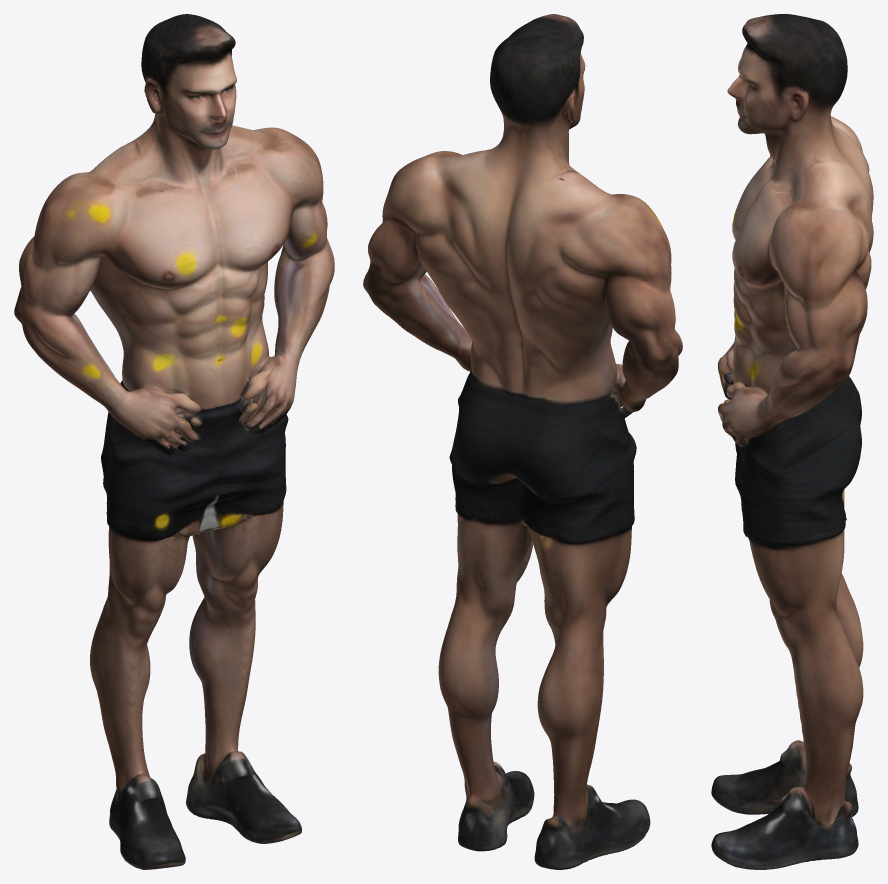
File: Muscle_Groups_Diagram_0304055856_texture.glb
The picture shows the model from 3 angles, left to right: view 1: azimuth 30°, elevation 25°; view 2: azimuth 150°, elevation 25°; view 3: azimuth 270°, elevation 25°; orthographic projection.
Bounding box in the file's own units: 0.7832 × 2 × 0.3609.
1 material, 1 textured.
